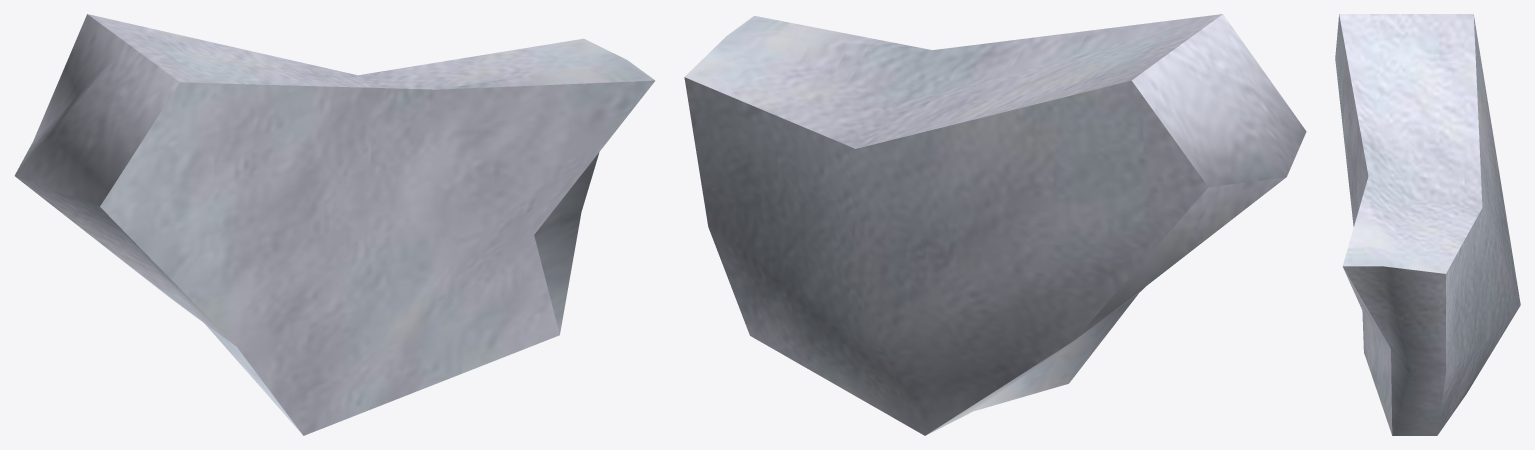
File: snow_ball_6.obj
3 renders of one model, left to right at view 1: azimuth 30°, elevation 25°; view 2: azimuth 150°, elevation 25°; view 3: azimuth 270°, elevation 25°, orthographic. The views are drawn at different scales.
Parts seen in each view (by area): view 1: pCube8; view 2: pCube8; view 3: pCube8.
Part boxes in pixels (x1,y1,x2,y2): pCube8: (14,14,655,435); pCube8: (684,14,1306,435); pCube8: (1335,14,1520,435).
Size of the model in its own units: 4.19 by 2.84 by 1.57.
